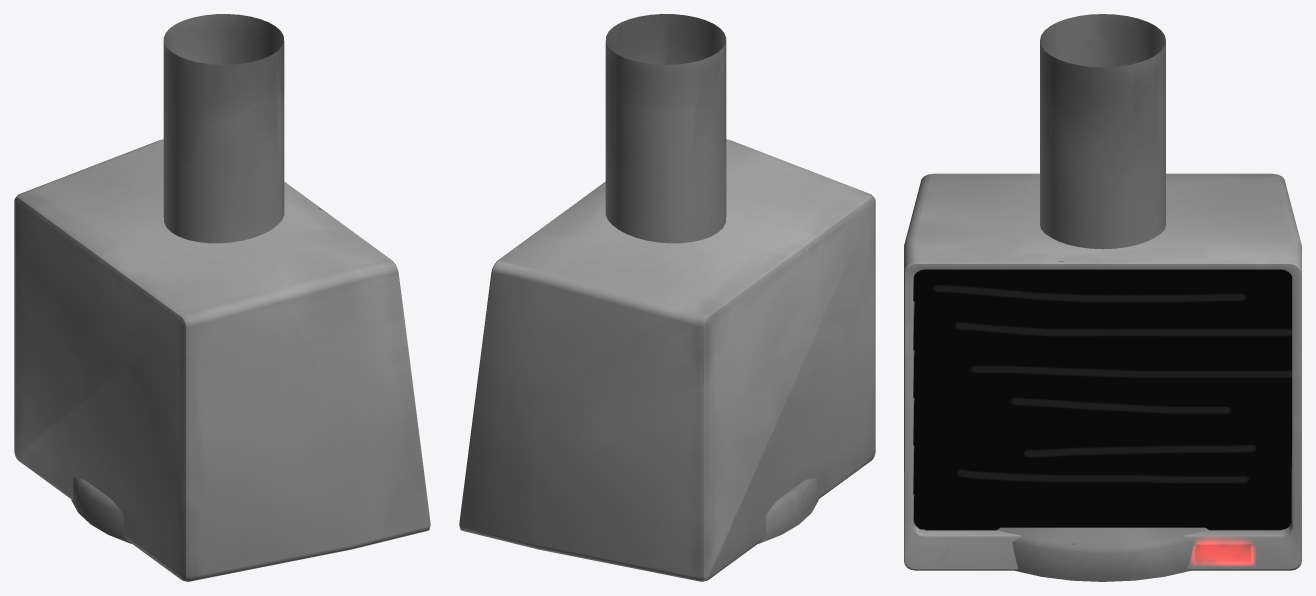
Rendered from Terminal3.glb.
3 renders of one model, left to right at view 1: azimuth 30°, elevation 25°; view 2: azimuth 150°, elevation 25°; view 3: azimuth 270°, elevation 25°, orthographic. The views are drawn at different scales.
Parts seen in each view (by area): view 1: Terminal, TerminalSupport; view 2: Terminal, TerminalSupport; view 3: Terminal, TerminalSupport.
Boxes of the visible parts, <box> form: Terminal: <box>14,139,430,581</box>; TerminalSupport: <box>71,14,284,543</box>; Terminal: <box>459,139,875,581</box>; TerminalSupport: <box>605,14,818,543</box>; Terminal: <box>904,173,1301,570</box>; TerminalSupport: <box>997,14,1208,581</box>.
Size of the model in its own units: 2 by 3.24 by 2.47.
1 material, 1 textured.
